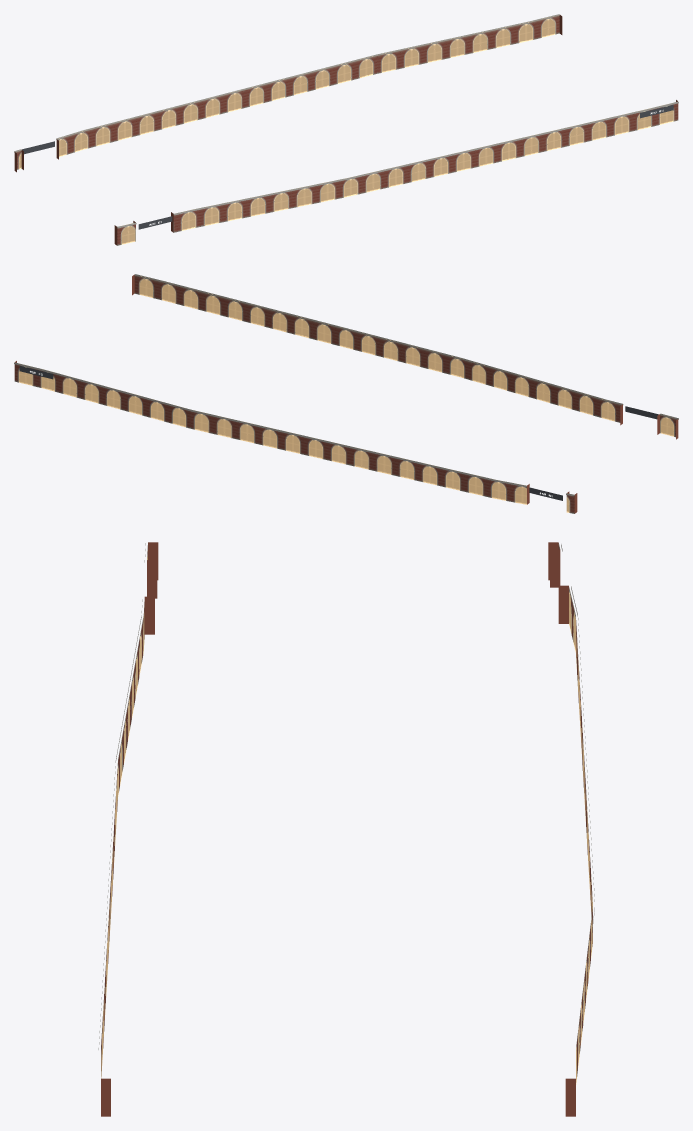
The model's file is kanda_station.glb.
3 views of the same model, one above another, from view 1: azimuth 30°, elevation 25°; view 2: azimuth 150°, elevation 25°; view 3: azimuth 270°, elevation 25° (orthographic). The views are drawn at different scales.
Parts seen in each view (by area): view 1: KD_Station; view 2: KD_Station; view 3: KD_Station.
Boxes of the visible parts, box(x1,y1,x2,y2) form: KD_Station: box(14, 14, 678, 245); KD_Station: box(14, 274, 678, 513); KD_Station: box(98, 542, 594, 1116).
Size of the model in its own units: 148 by 4.9 by 58.
Materials: 5 (1 with a texture image).
